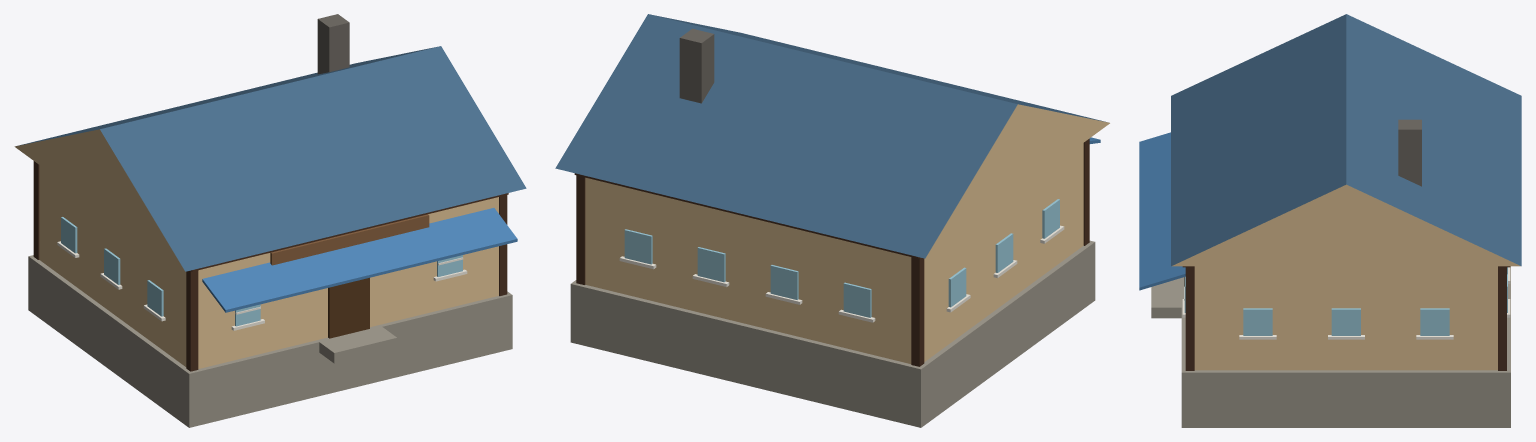
Rendered from general_store.glb.
3 views of the same model, side by side, from view 1: azimuth 30°, elevation 25°; view 2: azimuth 150°, elevation 25°; view 3: azimuth 270°, elevation 25° (orthographic). The views are drawn at different scales.
Parts seen in each view (by area): view 1: general_store-col; view 2: general_store-col; view 3: general_store-col.
Part boxes in pixels (<box>): general_store-col: <box>14,14,526,427</box>; general_store-col: <box>555,14,1109,427</box>; general_store-col: <box>1139,14,1521,427</box>.
Size of the model in its own units: 15.2 by 11.2 by 14.4.
